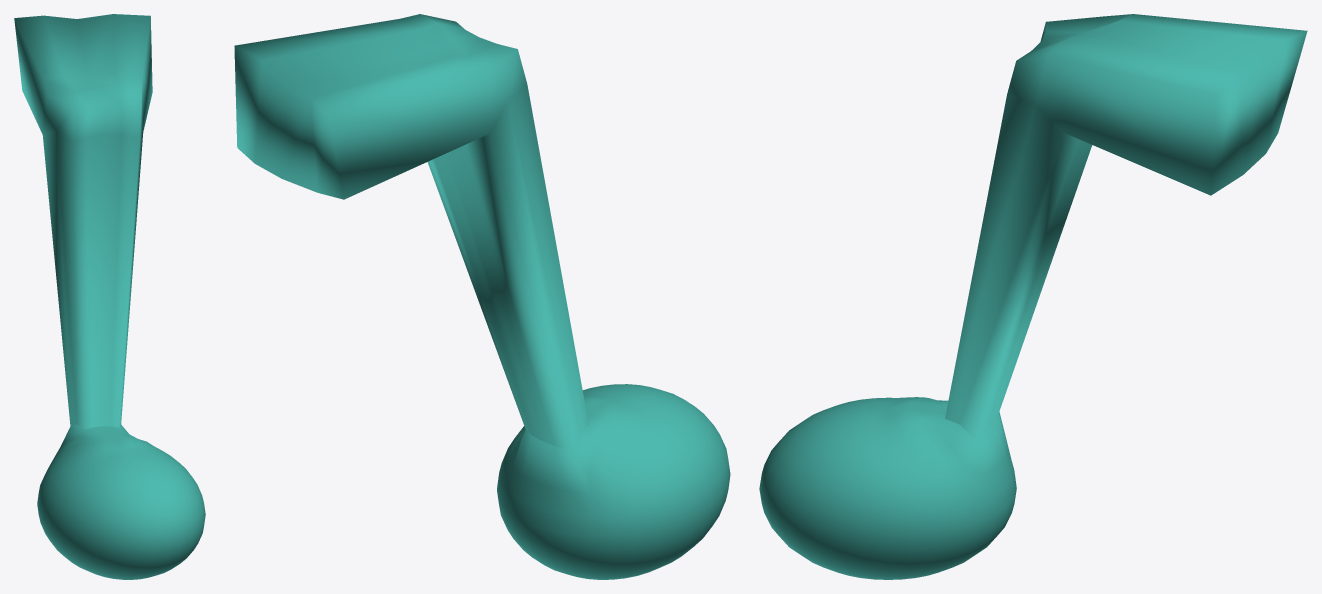
The model's file is simpleKeyDark.gltf.
3 views of the same model, side by side, from view 1: azimuth 30°, elevation 25°; view 2: azimuth 150°, elevation 25°; view 3: azimuth 270°, elevation 25° (orthographic). The views are drawn at different scales.
Visible parts, largest first — view 1: simpleKey; view 2: simpleKey; view 3: simpleKey.
Part boxes in pixels (x1,y1,x2,y2): simpleKey: [14, 14, 205, 579]; simpleKey: [234, 14, 730, 579]; simpleKey: [759, 14, 1307, 579].
Bounding box in the file's own units: 2.66 × 4.93 × 4.26.
